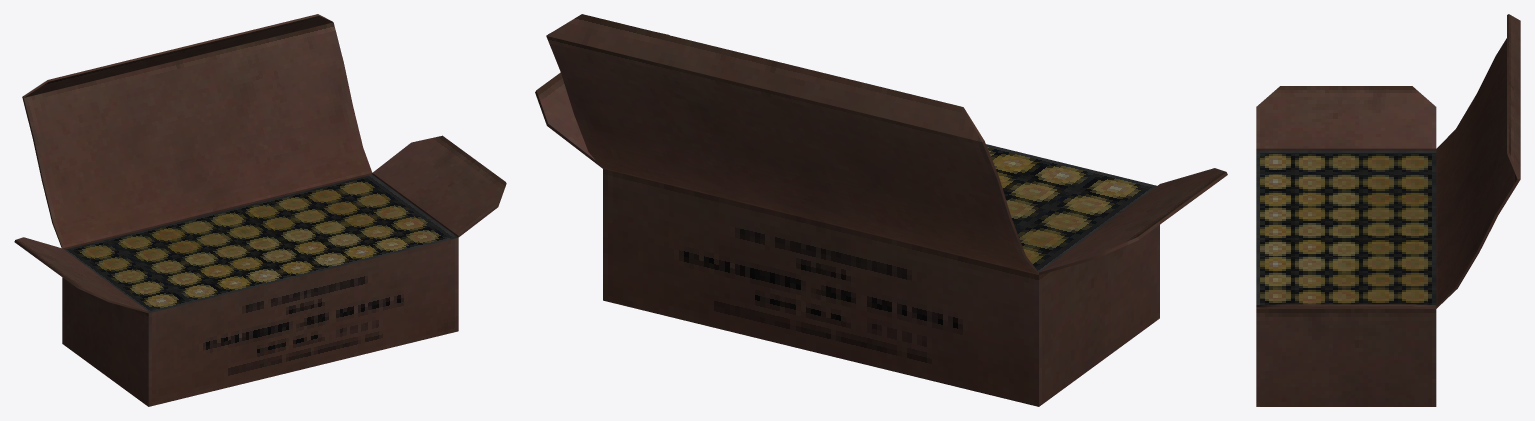
The model's file is ammo_box_mp_1.glb.
3 renders of one model, left to right at view 1: azimuth 30°, elevation 25°; view 2: azimuth 150°, elevation 25°; view 3: azimuth 270°, elevation 25°, orthographic. The views are drawn at different scales.
Parts seen in each view (by area): view 1: ammo_box_mp_1; view 2: ammo_box_mp_1; view 3: ammo_box_mp_1.
Part boxes in pixels (x1,y1,x2,y2): ammo_box_mp_1: [14, 14, 506, 406]; ammo_box_mp_1: [535, 14, 1227, 406]; ammo_box_mp_1: [1256, 14, 1520, 406].
Size of the model in its own units: 0.2159 by 0.1124 by 0.1101.
1 material, 1 textured.
